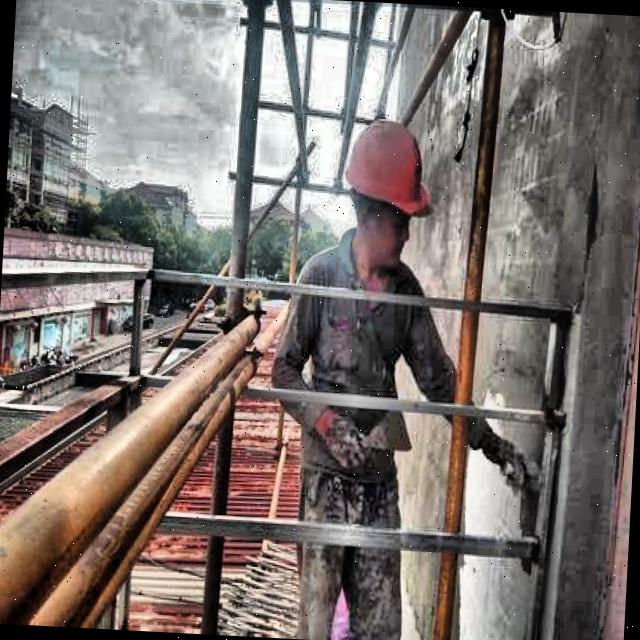helmet: (330, 104, 438, 286)
